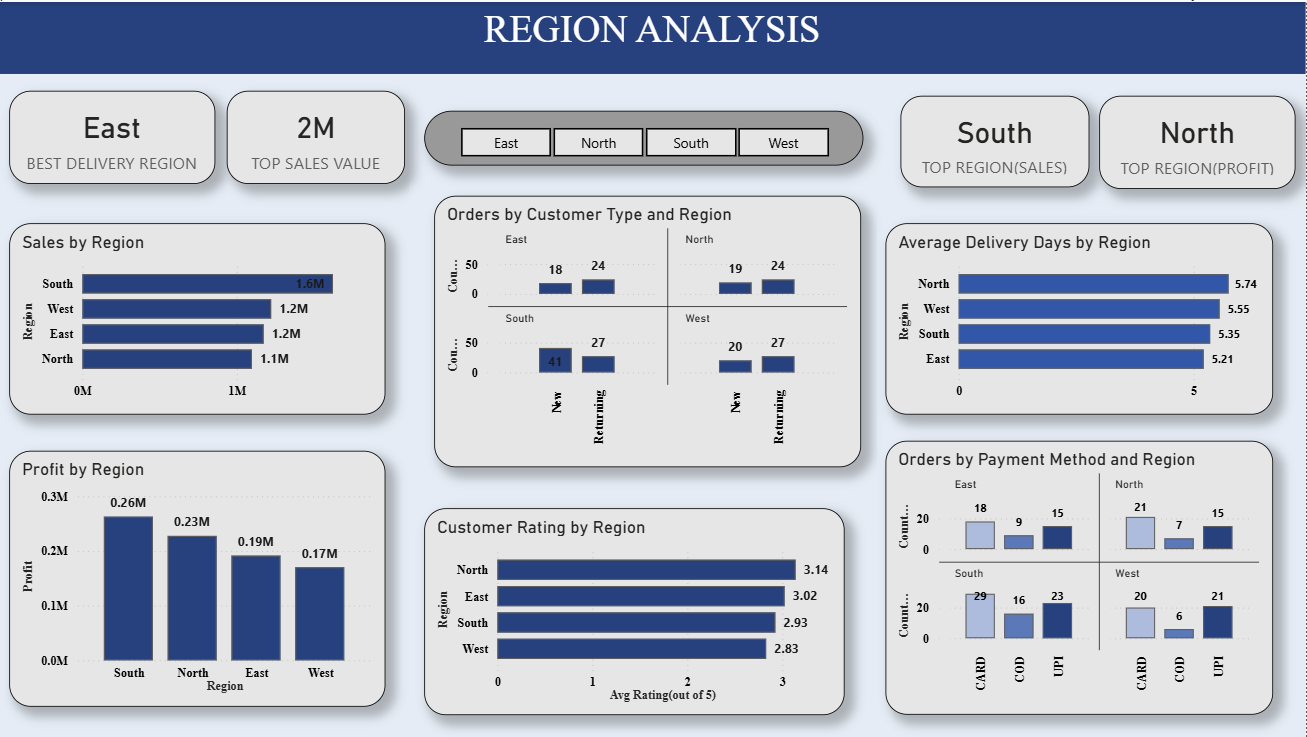

The dashboard page shown, as its layout file describes it:
{"tool":"powerbi","page":{"name":"REGION ANALYSIS","canvas":[1280,720],"ordinal":1},"visuals":[{"type":"textbox","box":[0,0,1279.5,70.5],"z":0},{"type":"slicer","fields":{"Values":["Customer_Behavior.Region"]},"box":[416.7,106.4,429.5,53.8],"z":1000},{"type":"columnChart","title":"Profit by Region","fields":{"Y":["Sum(Customer_Behavior.Profit)"],"Category":["Customer_Behavior.Region"]},"box":[11.5,438.5,367.9,250],"z":2000},{"type":"barChart","title":"Sales by Region","fields":{"Y":["Sum(Customer_Behavior.Sales)"],"Category":["Customer_Behavior.Region"]},"box":[11.5,216.7,367.9,187.2],"z":3000},{"type":"columnChart","title":"Orders by Payment Method and Region","fields":{"Category":["Customer_Behavior.Payment_Mode"],"Y":["CountNonNull(Customer_Behavior.Order_ID)"],"Rows":["Customer_Behavior.Region"]},"box":[867.9,429.5,379.5,267.9],"z":4000},{"type":"columnChart","title":"Orders by Customer Type and Region","fields":{"Category":["Customer_Behavior.Customer_Type"],"Y":["CountNonNull(Customer_Behavior.Order_ID)"],"Rows":["Customer_Behavior.Region"]},"box":[426.9,189.7,417.9,265.4],"z":5000},{"type":"barChart","title":"Average Delivery Days by Region","fields":{"Category":["Customer_Behavior.Region"],"Y":["Avg(Customer_Behavior.Delivery_Days)"]},"box":[867.9,216.7,379.5,187.2],"z":6000},{"type":"clusteredBarChart","title":"Customer Rating by Region","fields":{"Y":["Avg(Customer_Behavior.Rating)"],"Category":["Customer_Behavior.Region"]},"box":[416.7,494.9,411.5,202.6],"z":7000},{"type":"card","fields":{"Values":["Customer_Behavior.BEST DELIVERY REGION"]},"box":[11.5,87.2,201.3,91],"z":8000},{"type":"card","fields":{"Values":["Customer_Behavior.TOP SALES VALUE"]},"box":[224.4,87.2,174.4,91],"z":9000},{"type":"card","fields":{"Values":["Customer_Behavior.TOP REGION(SALES)"]},"box":[883.3,92.3,184.6,89.7],"z":10000},{"type":"card","fields":{"Values":["Customer_Behavior.TOP REGION(PROFIT)"]},"box":[1076.9,92.3,192.3,91],"z":11000}]}

Visuals, with their boxes in screenshot pixels (x1, y1, x2, y2), scaled from the page's 1280x720 canvas onto the 1307x737 screenshot:
textbox: 0, 0, 1306, 72
slicer - Customer_Behavior.Region: 425, 109, 864, 164
"Profit by Region" columnChart: 12, 449, 387, 705
"Sales by Region" barChart: 12, 222, 387, 413
"Orders by Payment Method and Region" columnChart: 886, 440, 1274, 714
"Orders by Customer Type and Region" columnChart: 436, 194, 863, 466
"Average Delivery Days by Region" barChart: 886, 222, 1274, 413
"Customer Rating by Region" clusteredBarChart: 425, 507, 846, 714
card - Customer_Behavior.BEST DELIVERY REGION: 12, 89, 217, 182
card - Customer_Behavior.TOP SALES VALUE: 229, 89, 407, 182
card - Customer_Behavior.TOP REGION(SALES): 902, 94, 1090, 186
card - Customer_Behavior.TOP REGION(PROFIT): 1100, 94, 1296, 188
